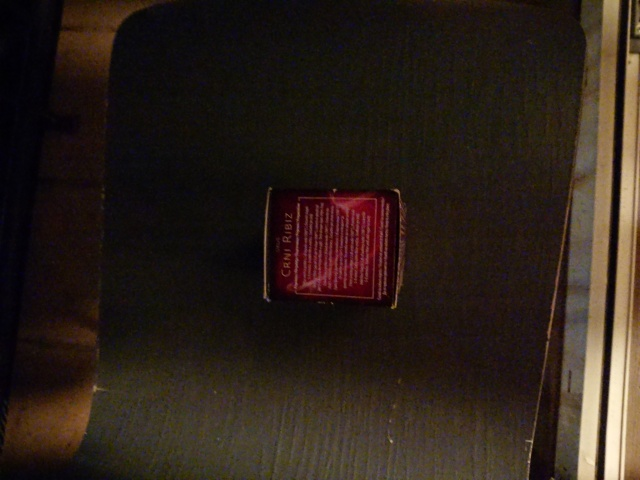Franck Black Currant Tea 60g: (259, 184, 410, 312)
